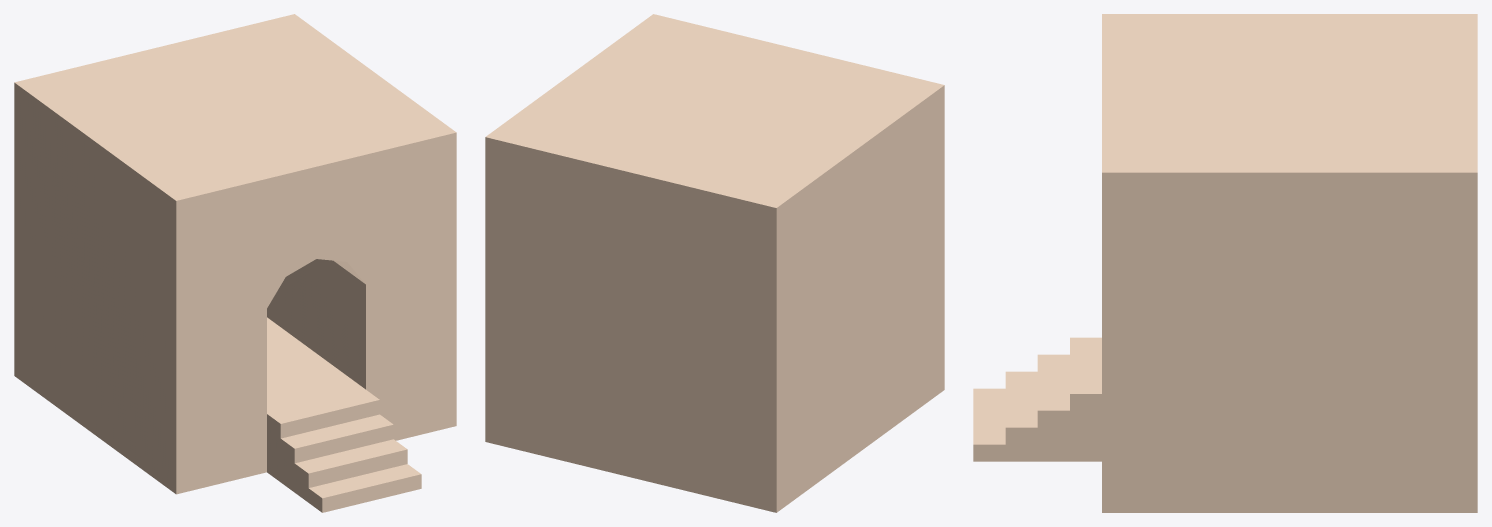
Rendered from Abstract_Castle_Block_Single_Door+Stairs_Cream_01.fbx.
3 views of the same model, side by side, from view 1: azimuth 30°, elevation 25°; view 2: azimuth 150°, elevation 25°; view 3: azimuth 270°, elevation 25° (orthographic). The views are drawn at different scales.
Parts seen in each view (by area): view 1: Model; view 2: Model; view 3: Model.
Boxes of the visible parts, box(x1,y1,x2,y2) form: Model: box(14, 14, 456, 512); Model: box(485, 14, 944, 512); Model: box(973, 14, 1477, 512).
Size of the model in its own units: 1000 by 1000 by 1343.
